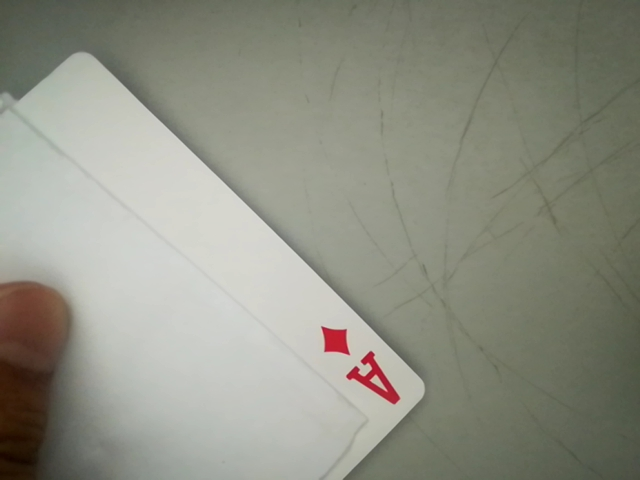fk a: (308, 322, 413, 413)
